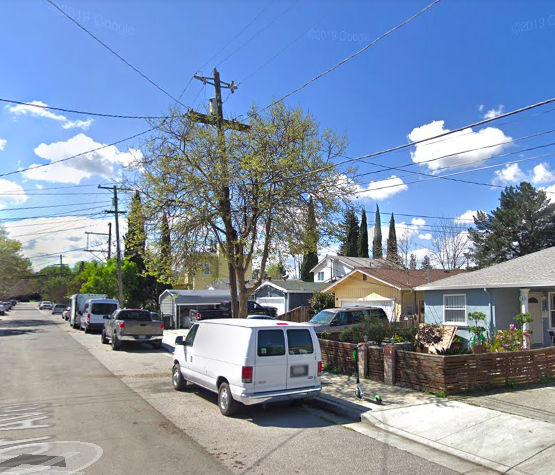tree: (123, 94, 365, 319)
